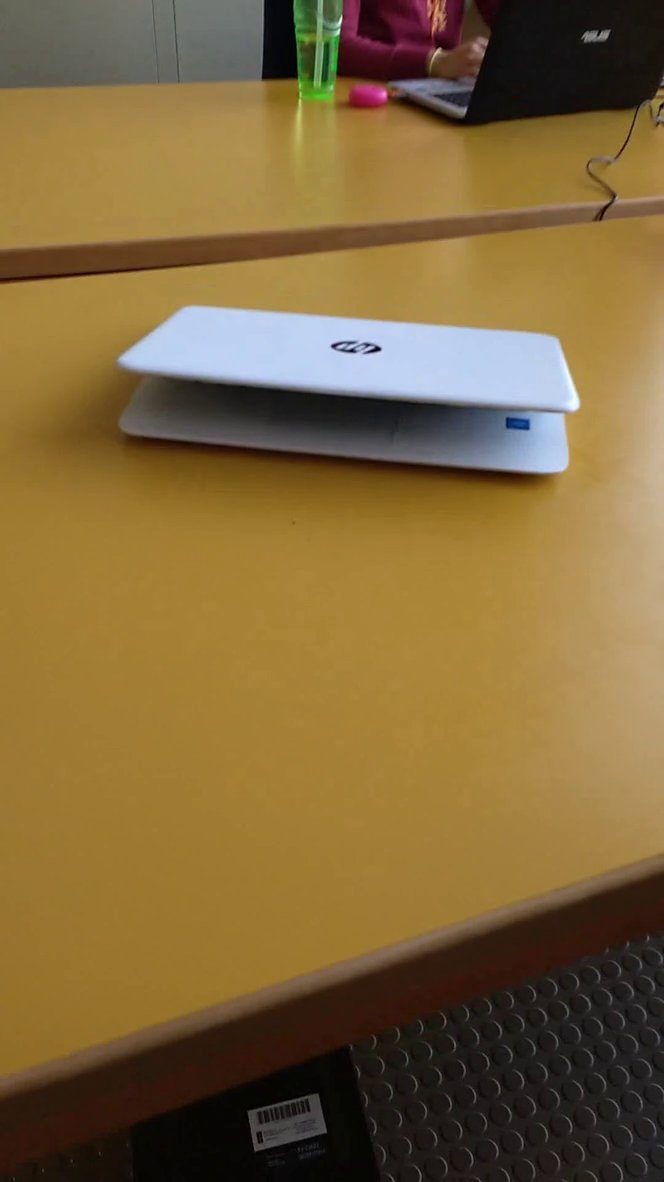laptop: (109, 292, 607, 503), (380, 1, 664, 144)
